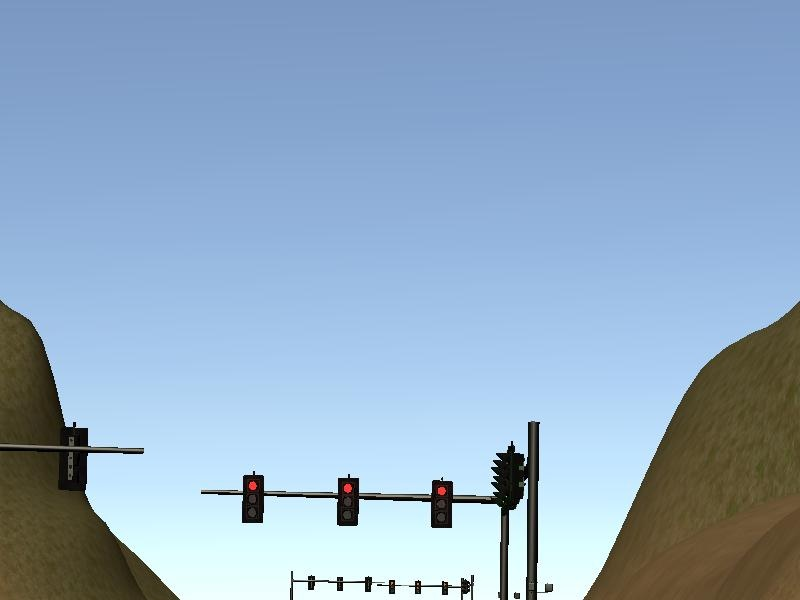red: (237, 471, 266, 525), (430, 475, 454, 532), (336, 475, 360, 528)
